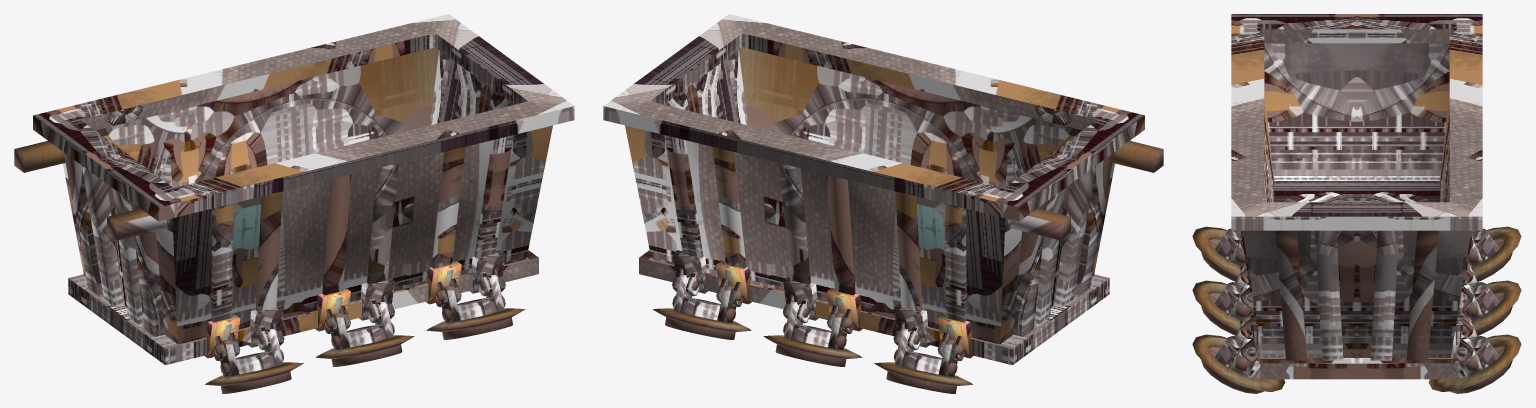
The model's file is Wagon.fbx.
The picture shows the model from 3 angles, left to right: view 1: azimuth 30°, elevation 25°; view 2: azimuth 150°, elevation 25°; view 3: azimuth 270°, elevation 25°; orthographic projection.
Parts seen in each view (by area): view 1: Wagon_low, WagonWheels_low; view 2: Wagon_low, WagonWheels_low; view 3: Wagon_low, WagonWheels_low.
Boxes of the visible parts, box(x1,y1,x2,y2) form: Wagon_low: box(14, 14, 574, 364); WagonWheels_low: box(204, 250, 524, 393); Wagon_low: box(603, 14, 1163, 364); WagonWheels_low: box(653, 250, 973, 393); Wagon_low: box(1231, 14, 1482, 379); WagonWheels_low: box(1192, 226, 1521, 393).
Size of the model in its own units: 3.59 by 1.67 by 2.3.
